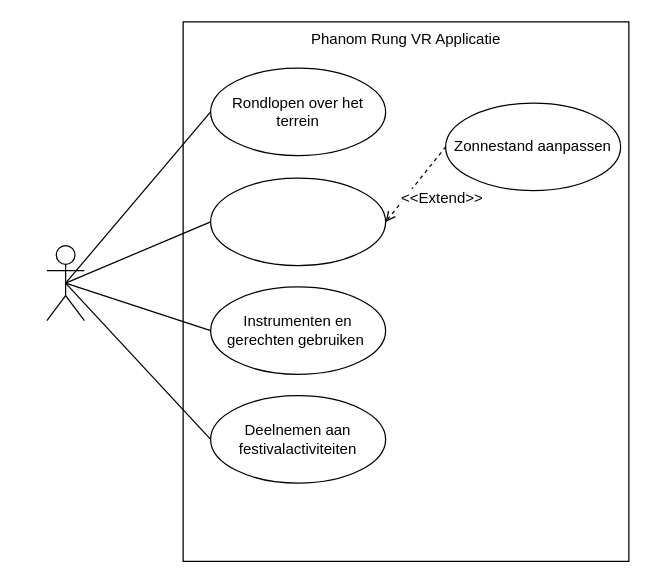
Some shapes in this 651 by 584 pixel diagram are drawn without their labels. Here are the shapes that lost their labels. From the top down, the box of each, then its label:
(209, 177, 386, 266): Zonsopgang waarnemen
(46, 244, 84, 321): VR Bezoeker
